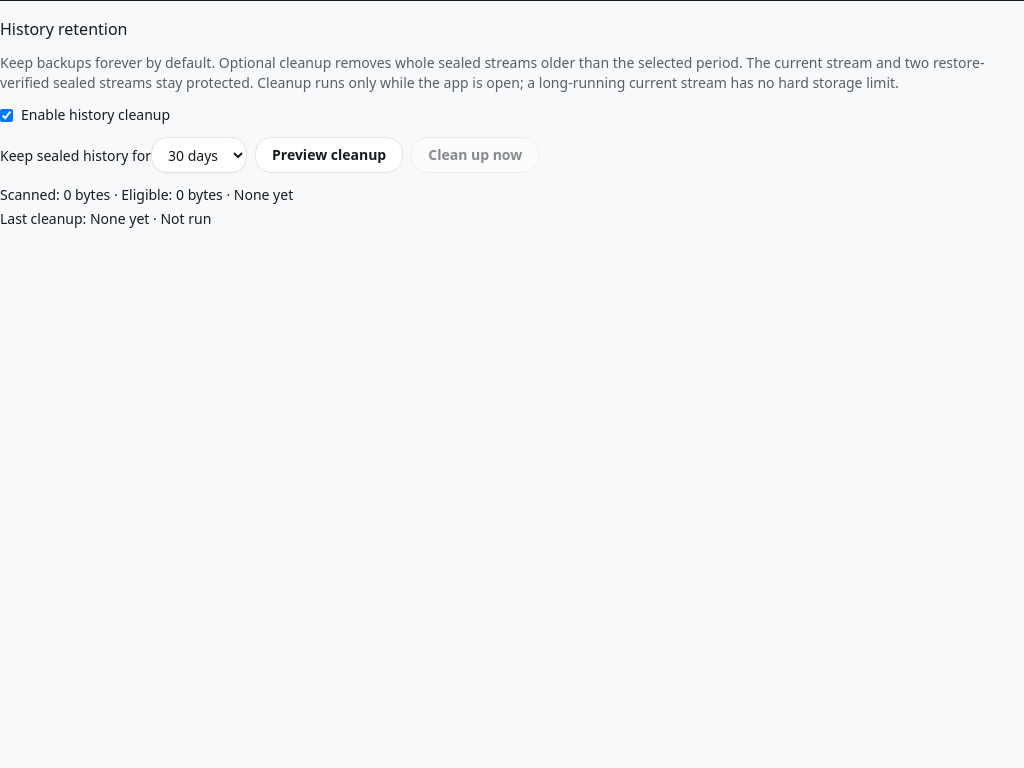
history retention › drops failed/stale execution tokens, hides provider messages, and requires a fresh preview
Click the button "Preview cleanup".
click(329, 155)  # box top-left (255, 137), bottom-right (403, 173)
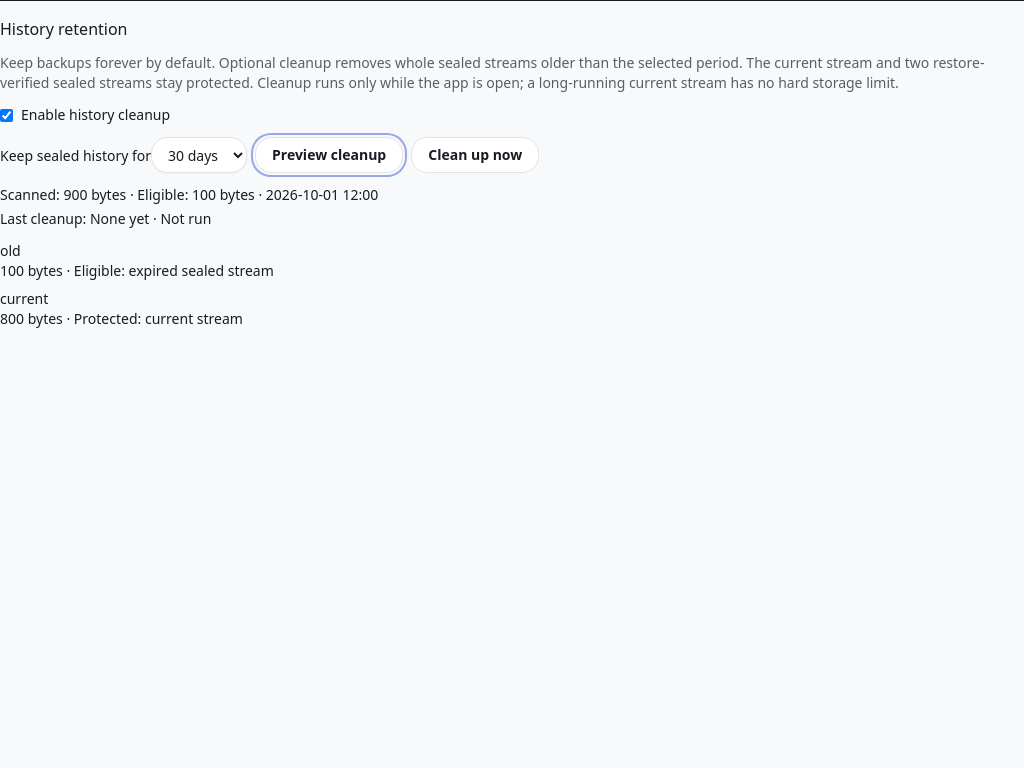
Result: the list named "Deletion candidates and protected streams" is shown at top-left (0, 241), bottom-right (274, 328)
Click the button "Clean up now".
click(475, 155)  # box top-left (411, 137), bottom-right (539, 173)
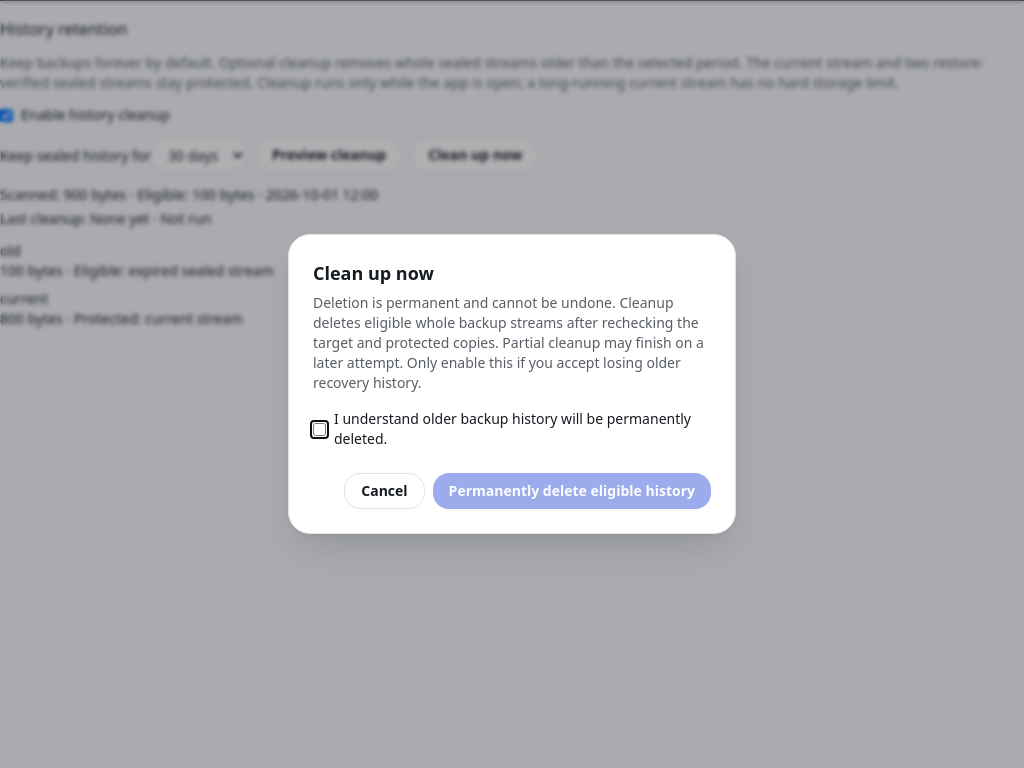
Click the checkbox labelled "I understand older backup history will be permanently deleted.".
click(320, 429)  # box top-left (313, 422), bottom-right (326, 436)
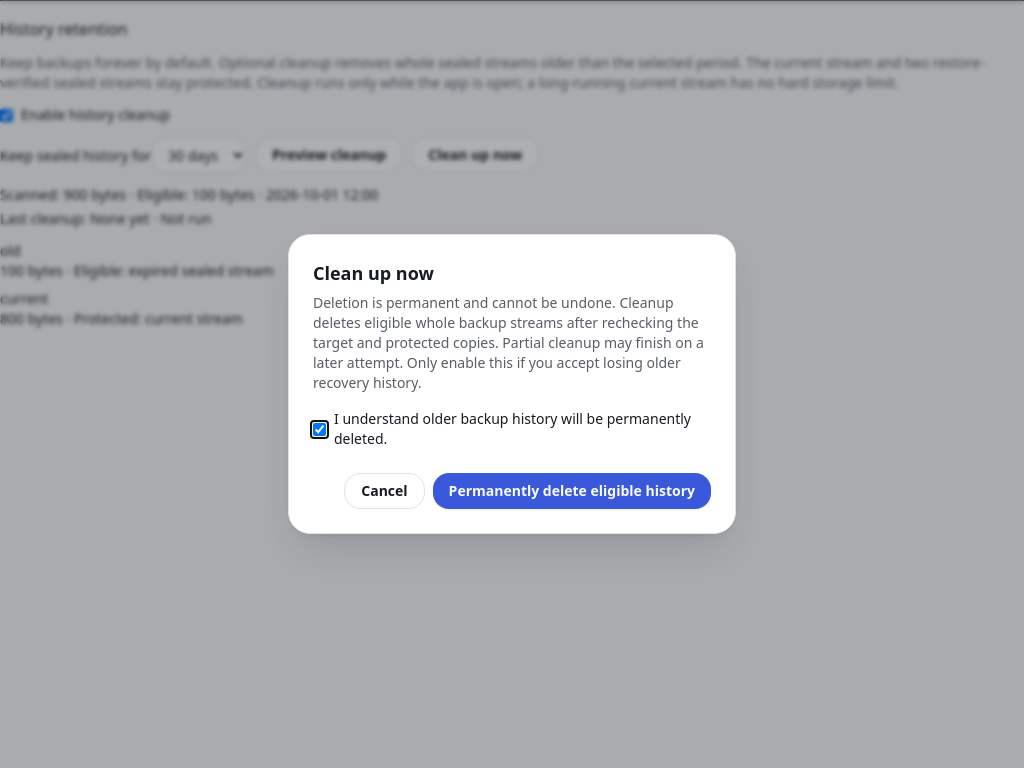
Click the button "Permanently delete eligible history".
click(572, 491)  # box top-left (433, 473), bottom-right (711, 509)
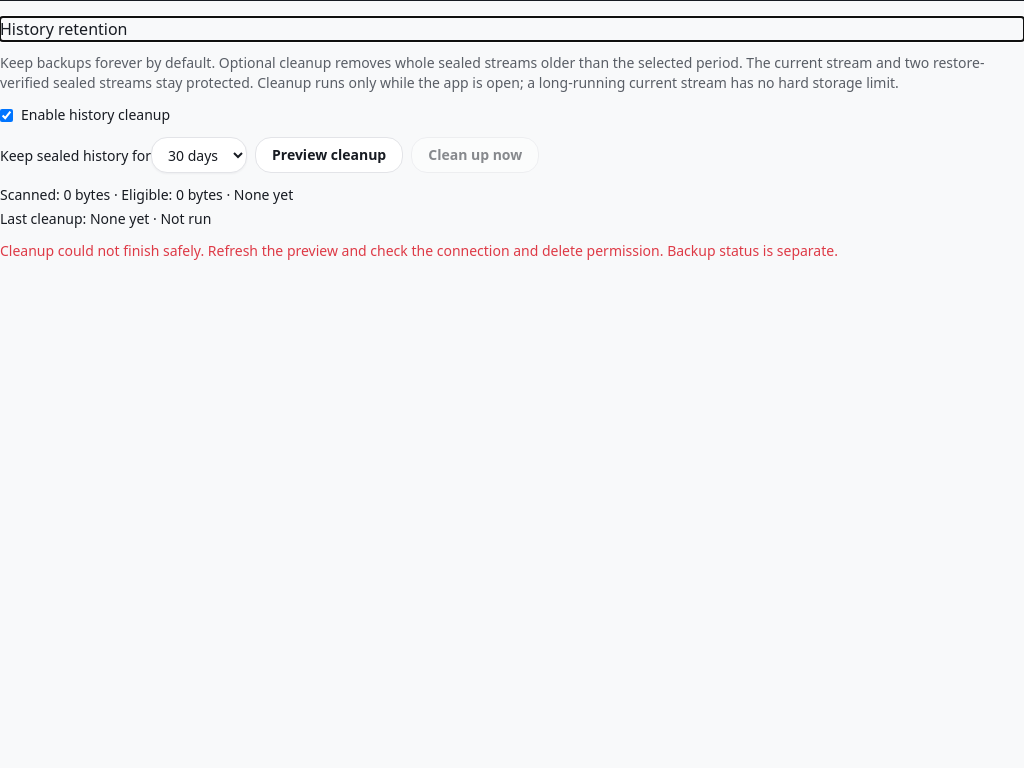
Result: the 2nd message is shown at top-left (0, 241), bottom-right (838, 260)
Result: the button "Clean up now" is disabled at top-left (411, 137), bottom-right (539, 173)
Click the button "Preview cleanup".
click(329, 155)  # box top-left (255, 137), bottom-right (403, 173)
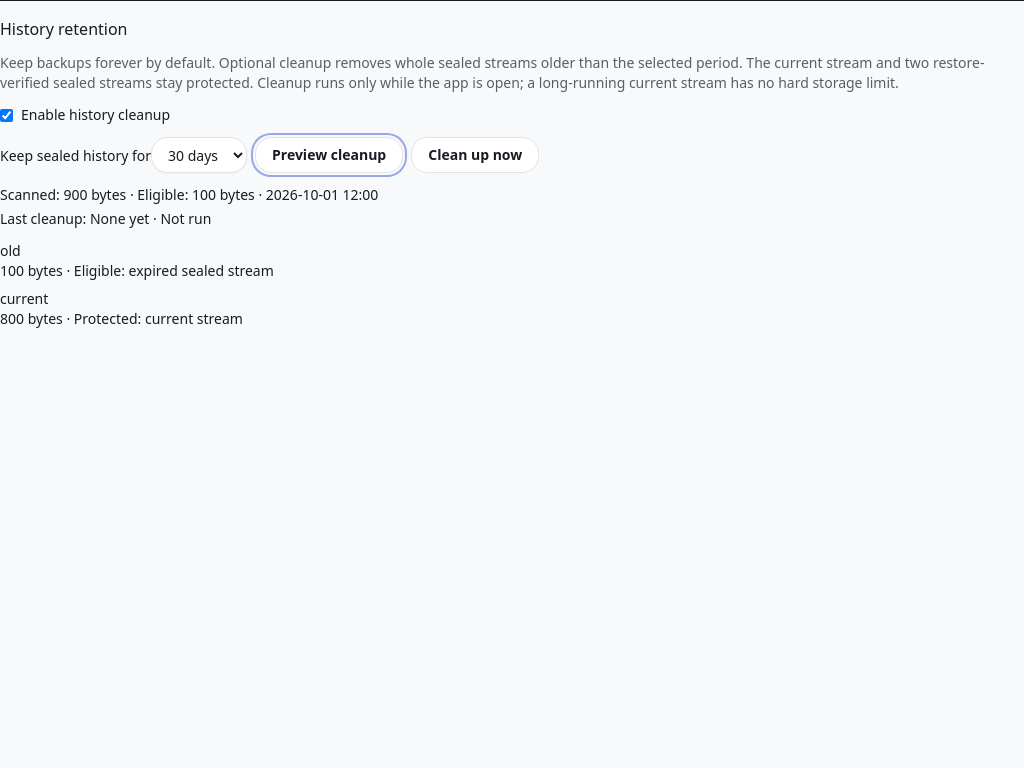
Result: the list named "Deletion candidates and protected streams" is shown at top-left (0, 241), bottom-right (274, 328)
Result: the button "Clean up now" is enabled at top-left (411, 137), bottom-right (539, 173)
